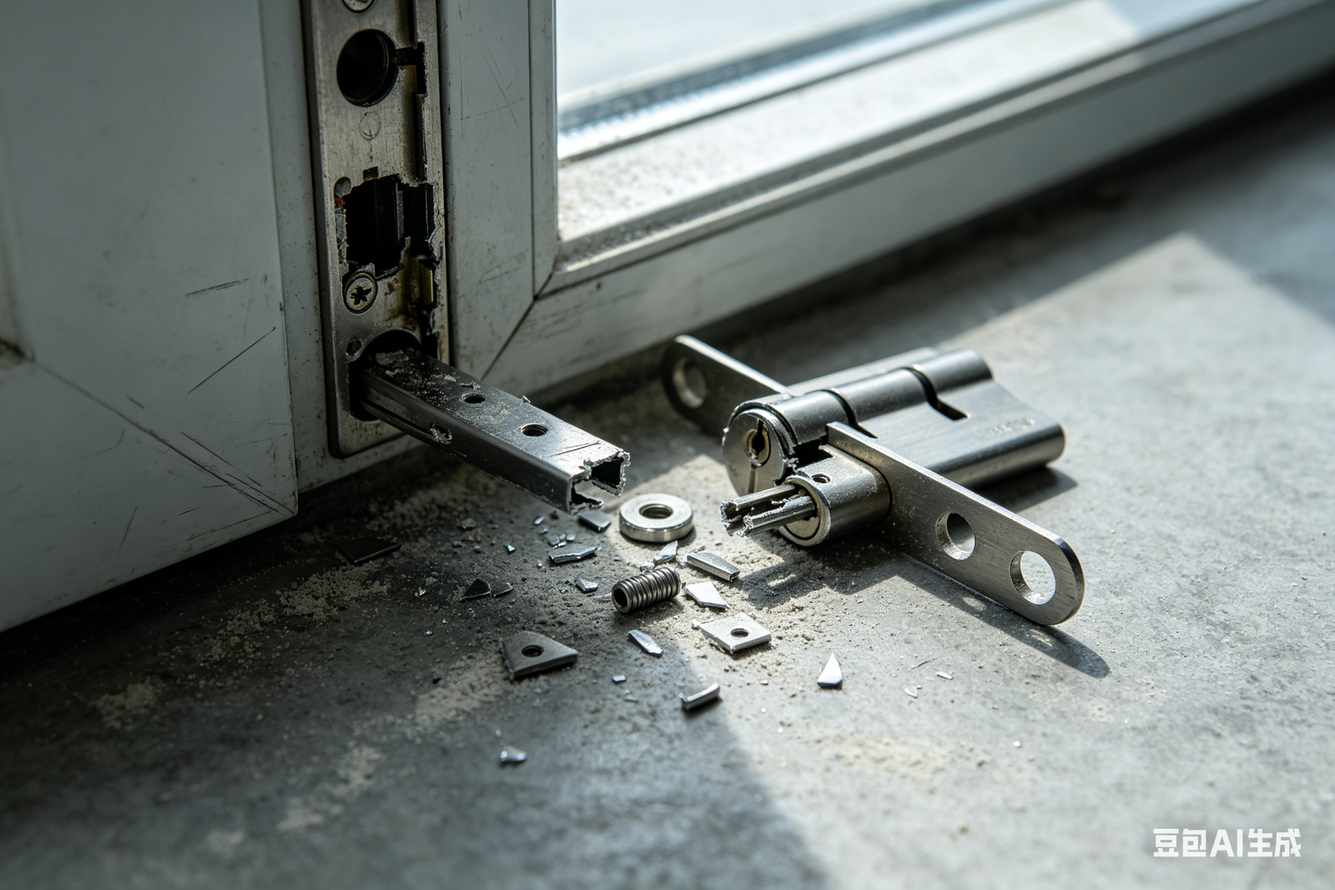BadLock: (317, 155, 459, 459), (706, 407, 875, 566)
